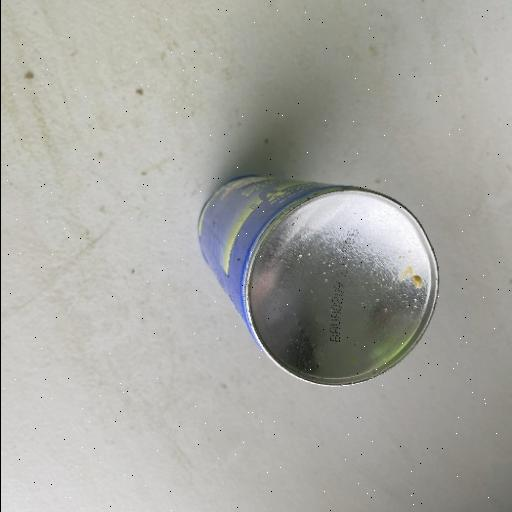Metal: (196, 171, 442, 389)
